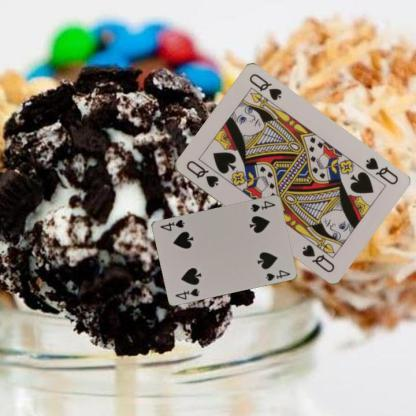4s: (248, 198, 277, 213), (173, 286, 201, 300)
Qs: (362, 154, 400, 186), (182, 158, 220, 189)
